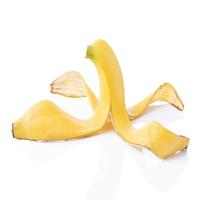banane: (10, 37, 194, 169)
